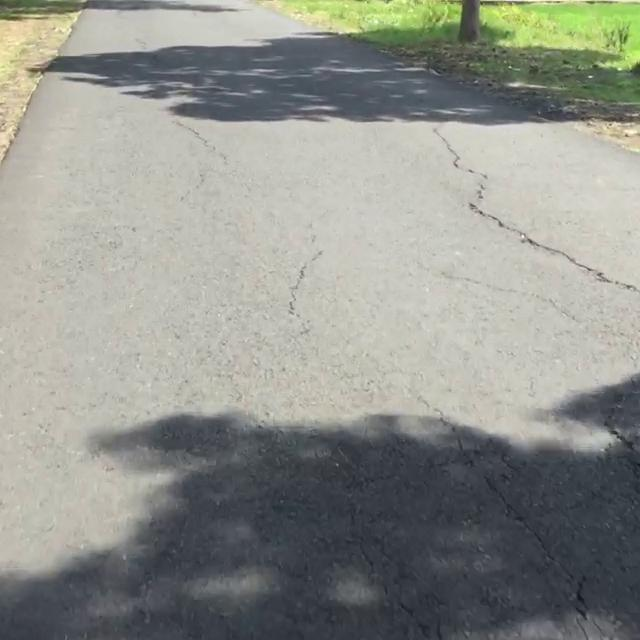retak_memanjang: (391, 111, 640, 318), (380, 384, 584, 573), (266, 190, 333, 357)
